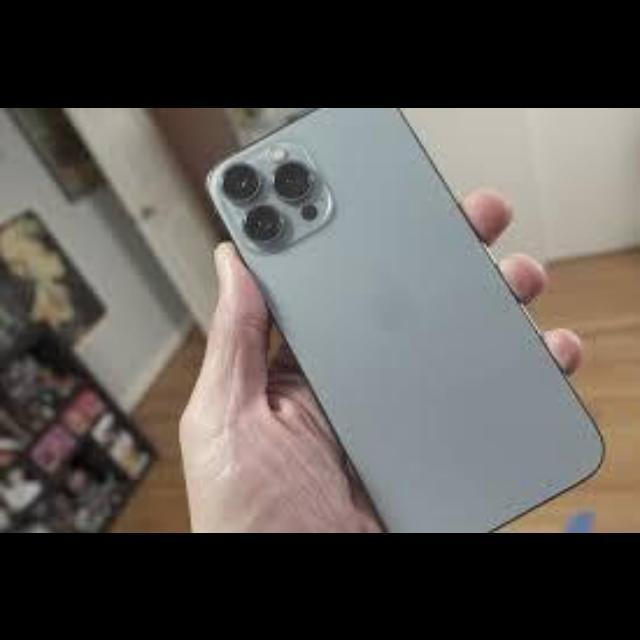phone: (173, 110, 619, 517)
